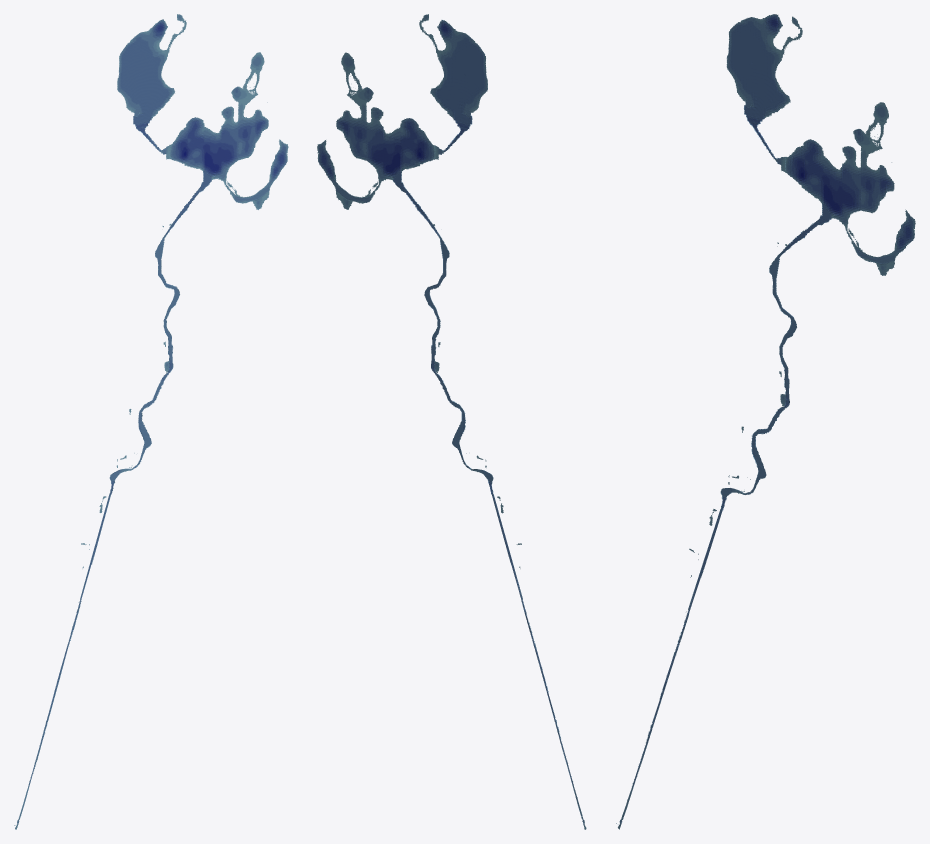
File: triangle_mesh.glb
The picture shows the model from 3 angles, left to right: view 1: azimuth 30°, elevation 25°; view 2: azimuth 150°, elevation 25°; view 3: azimuth 330°, elevation 25°; orthographic projection. The views are drawn at different scales.
Visible parts, largest first — view 1: world; view 2: world; view 3: world.
Part boxes in pixels (bbox=[...]): world: bbox=[14, 14, 288, 829]; world: bbox=[317, 14, 586, 829]; world: bbox=[616, 14, 915, 829].
Size of the model in its own units: 1003 by 2732 by 13.77.
